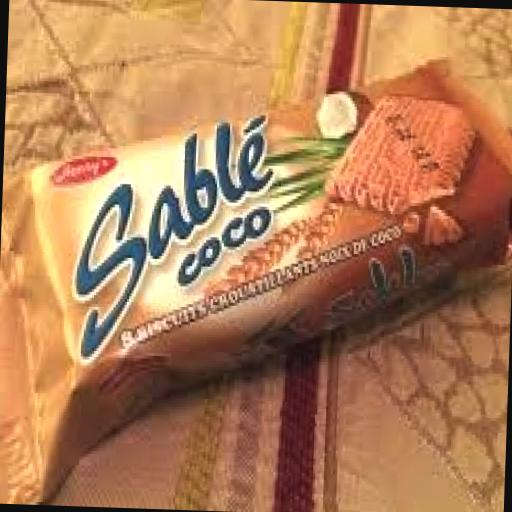sabl: (0, 44, 512, 488)
